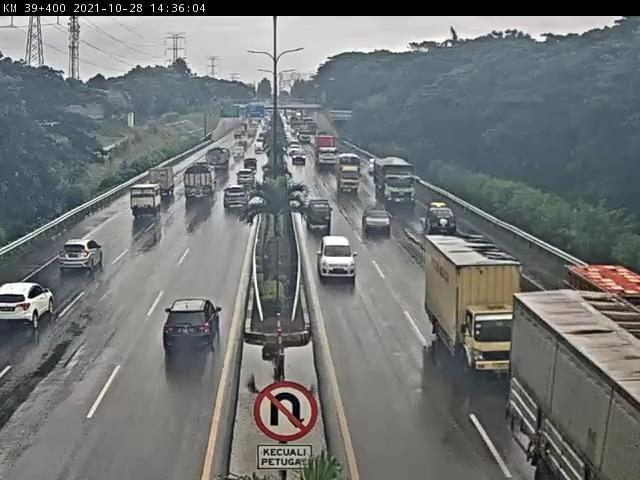car: (142, 291, 220, 364), (2, 290, 41, 353), (37, 253, 82, 297), (121, 191, 158, 228), (326, 244, 353, 286), (361, 199, 385, 231), (223, 192, 243, 227), (419, 194, 441, 222), (308, 190, 327, 217), (237, 176, 253, 195), (295, 149, 308, 171), (249, 157, 262, 174)
truck: (480, 248, 638, 480), (428, 221, 519, 341), (375, 156, 412, 199), (336, 156, 359, 191), (189, 166, 210, 202), (142, 174, 169, 197), (315, 136, 332, 171), (200, 148, 227, 167)
